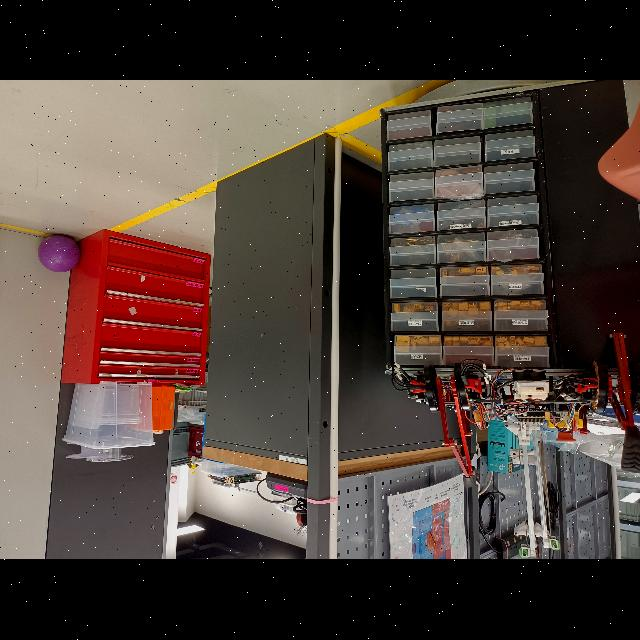P: (37, 235, 81, 273)
